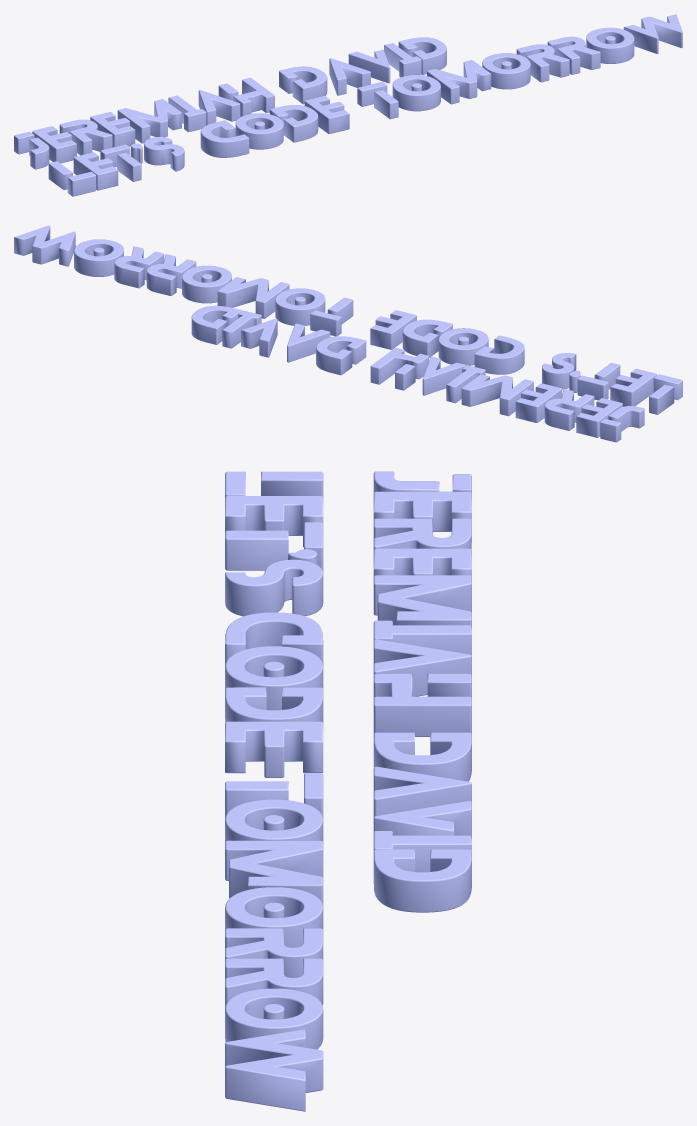
3 renders of one model, top to bottom at view 1: azimuth 30°, elevation 25°; view 2: azimuth 150°, elevation 25°; view 3: azimuth 270°, elevation 25°, orthographic. The views are drawn at different scales.
Visible parts, largest first — view 1: Text; view 2: Text; view 3: Text.
Boxes of the visible parts, box(x1,y1,x2,y2) form: Text: box(14, 14, 682, 196); Text: box(14, 225, 682, 442); Text: box(225, 471, 471, 1111).
Bounding box in the file's own units: 9.7 × 0.24 × 1.66.
